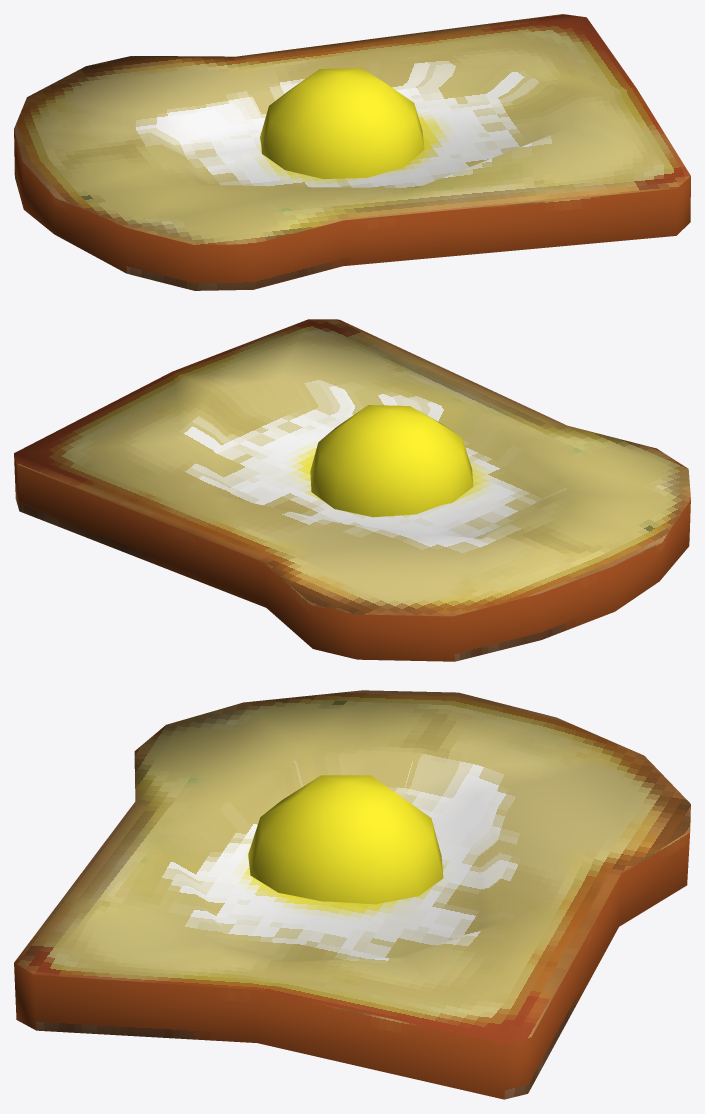
Rendered from BreadEgg.fbx.
The picture shows the model from 3 angles, top to bottom: view 1: azimuth 30°, elevation 25°; view 2: azimuth 150°, elevation 25°; view 3: azimuth 270°, elevation 25°; orthographic projection. The views are drawn at different scales.
Visible parts, largest first — view 1: Eggyolk; view 2: Eggyolk; view 3: Eggyolk.
Boxes of the visible parts, x1,y1,x2,y2 form: Eggyolk: [14, 14, 690, 290]; Eggyolk: [14, 319, 690, 661]; Eggyolk: [14, 690, 690, 1099].
Size of the model in its own units: 38.24 by 7.32 by 32.05.
